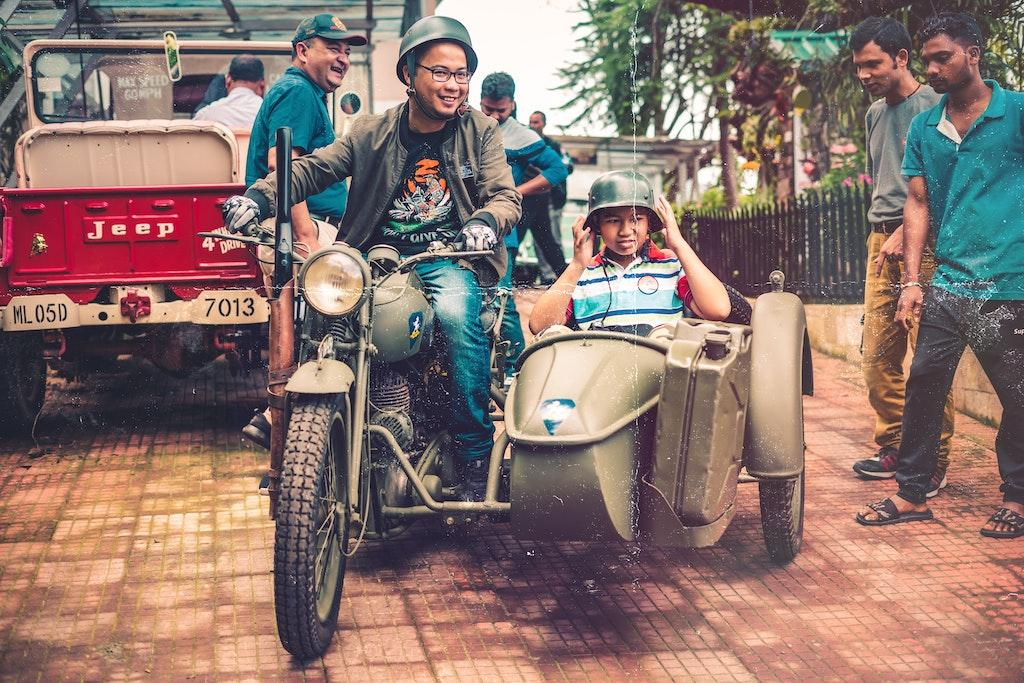helmet: (395, 14, 479, 122), (582, 169, 668, 260)
nohelmet: (915, 9, 985, 104), (291, 12, 369, 94), (849, 14, 913, 98)
